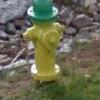Hydrant: (18, 4, 68, 91)
